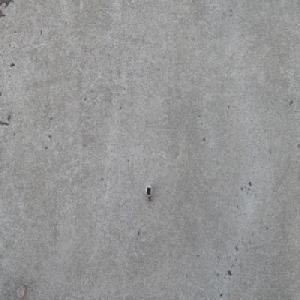MetalPart: (144, 184, 153, 204)
